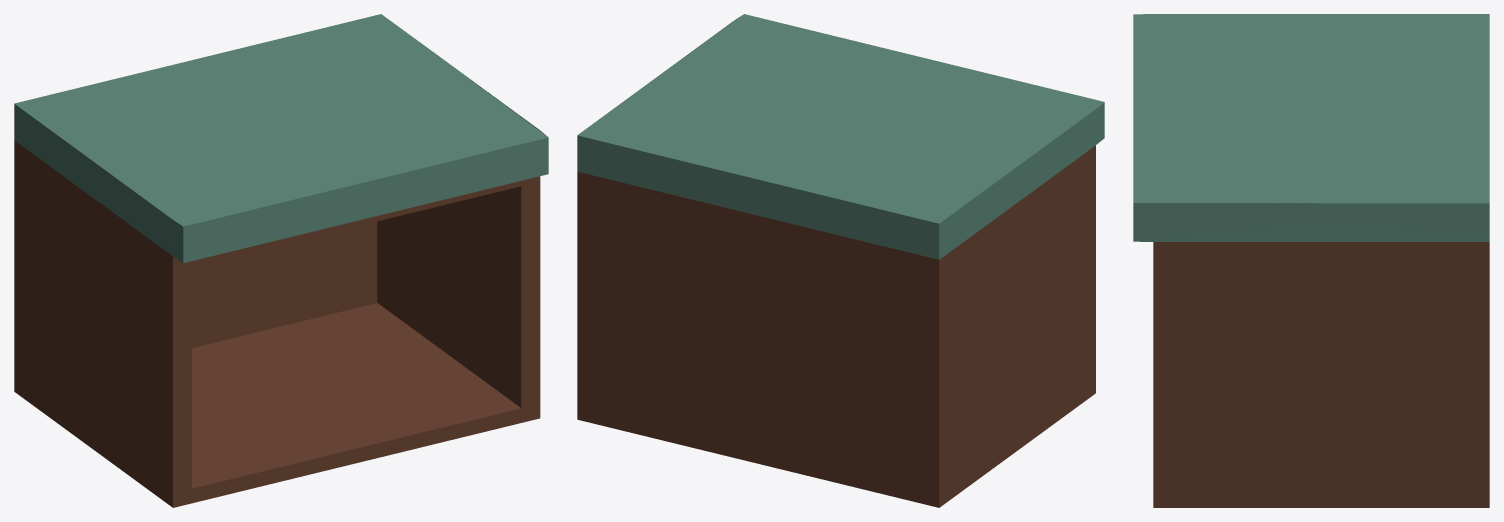
File: Counter_1_Hole.fbx
3 views of the same model, side by side, from view 1: azimuth 30°, elevation 25°; view 2: azimuth 150°, elevation 25°; view 3: azimuth 270°, elevation 25° (orthographic). The views are drawn at different scales.
Visible parts, largest first — view 1: COUNTER 1 HOLE; view 2: COUNTER 1 HOLE; view 3: COUNTER 1 HOLE.
Part boxes in pixels (x1,y1,x2,y2): COUNTER 1 HOLE: (14, 14, 548, 507); COUNTER 1 HOLE: (577, 14, 1104, 507); COUNTER 1 HOLE: (1133, 14, 1489, 507).
Bounding box in the file's own units: 100 × 75 × 79.47.
